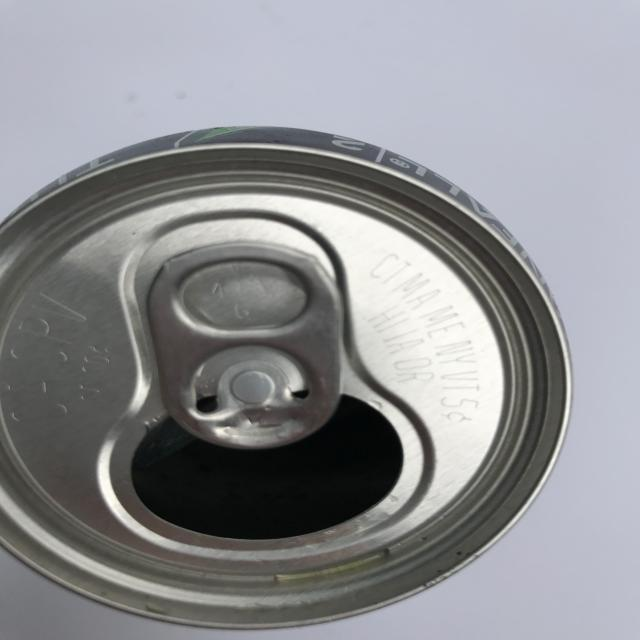metal: (2, 128, 575, 632)
